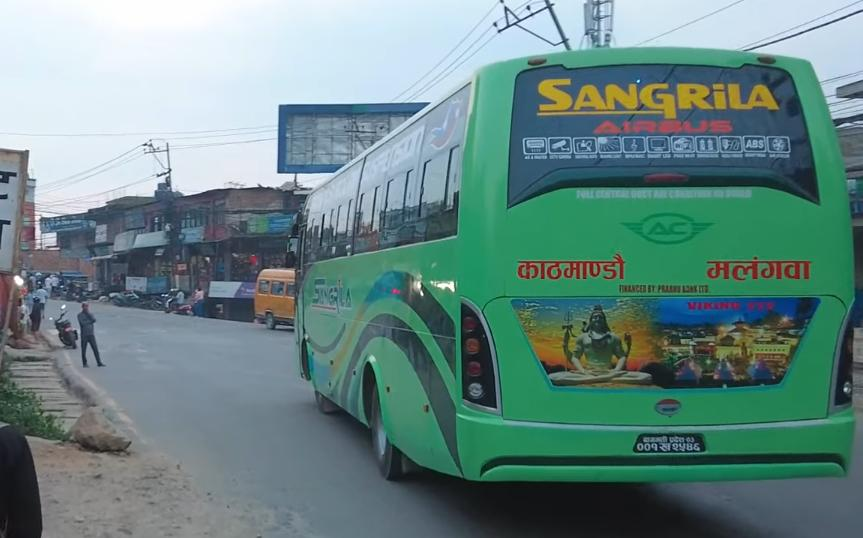bus: (287, 47, 863, 513)
